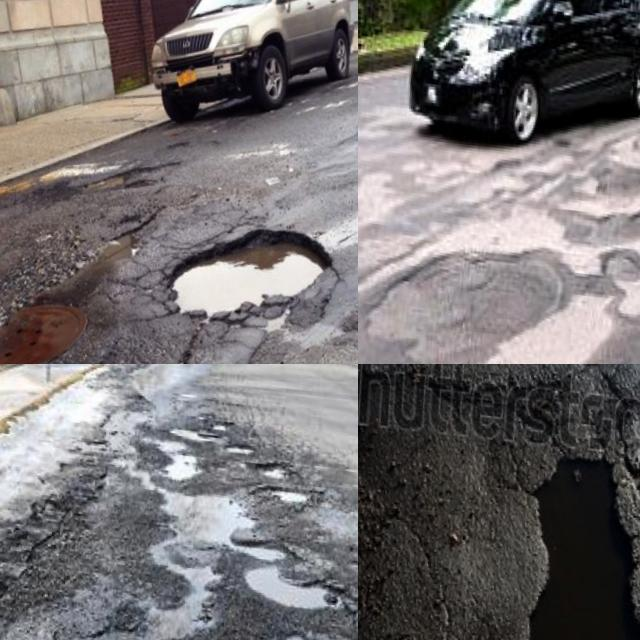Potholes: (74, 139, 358, 364), (438, 385, 640, 640), (101, 394, 340, 581), (358, 199, 594, 364), (512, 135, 640, 337), (32, 512, 233, 640), (188, 511, 358, 640), (0, 121, 135, 239), (0, 257, 109, 364)
